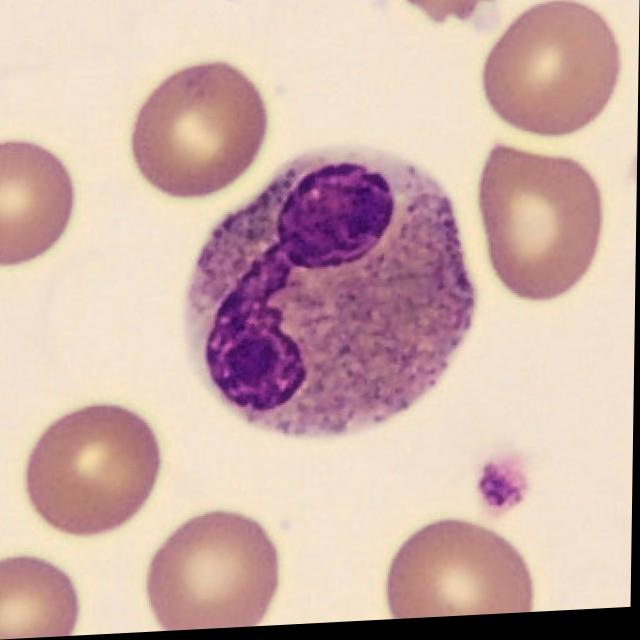Neutrofilo segmentado: (189, 146, 475, 442)
